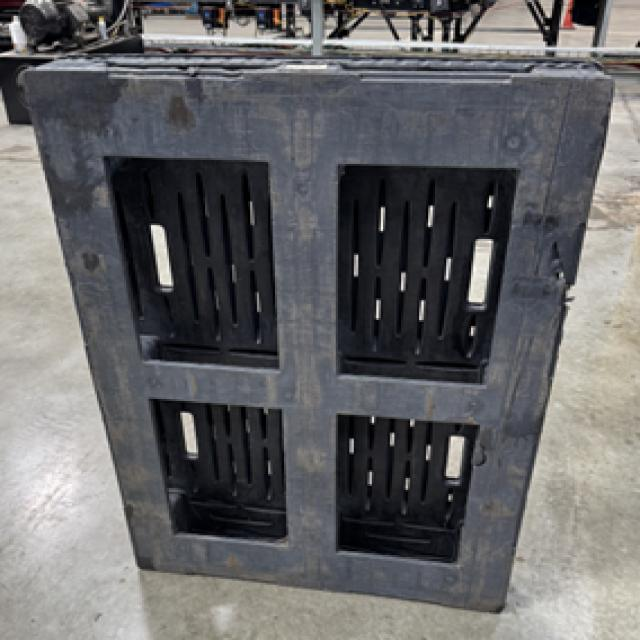igps: (18, 48, 615, 612)
